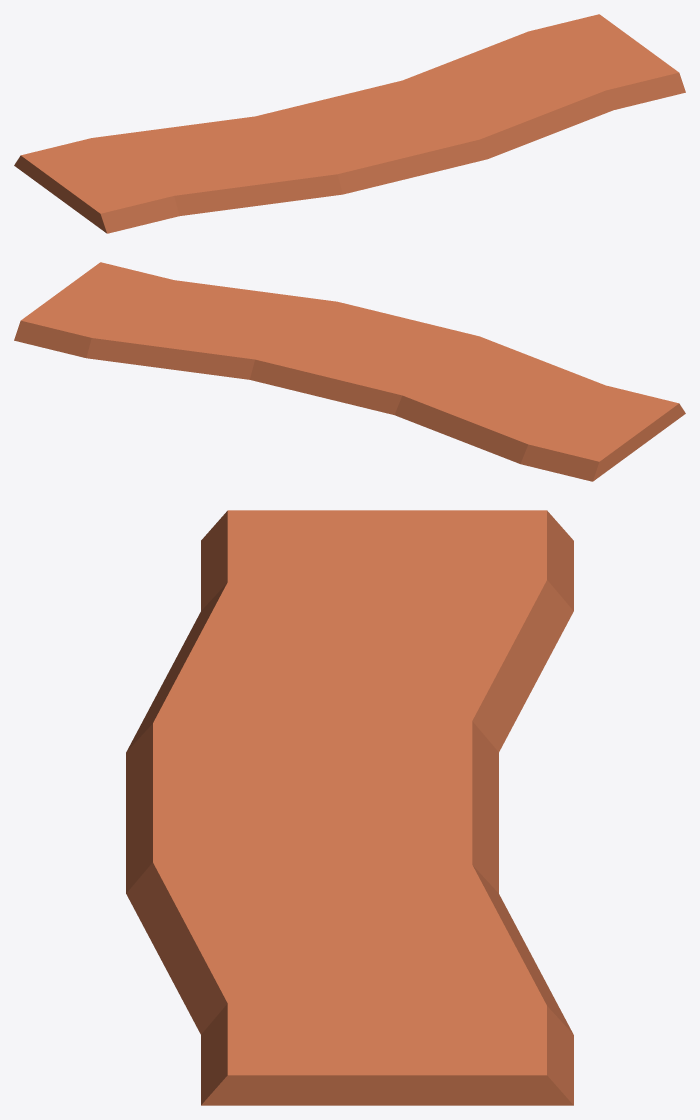
Rendered from Path Straight.glb.
The picture shows the model from 3 angles, top to bottom: view 1: azimuth 30°, elevation 25°; view 2: azimuth 150°, elevation 25°; view 3: azimuth 270°, elevation 25°; orthographic projection. The views are drawn at different scales.
Parts seen in each view (by area): view 1: path_straight; view 2: path_straight; view 3: path_straight.
Boxes of the visible parts, left/top/right/bottom form: path_straight: left=14, top=14, right=685, bottom=233; path_straight: left=14, top=262, right=685, bottom=481; path_straight: left=126, top=510, right=573, bottom=1105.
Size of the model in its own units: 1 by 0.025 by 0.335.
